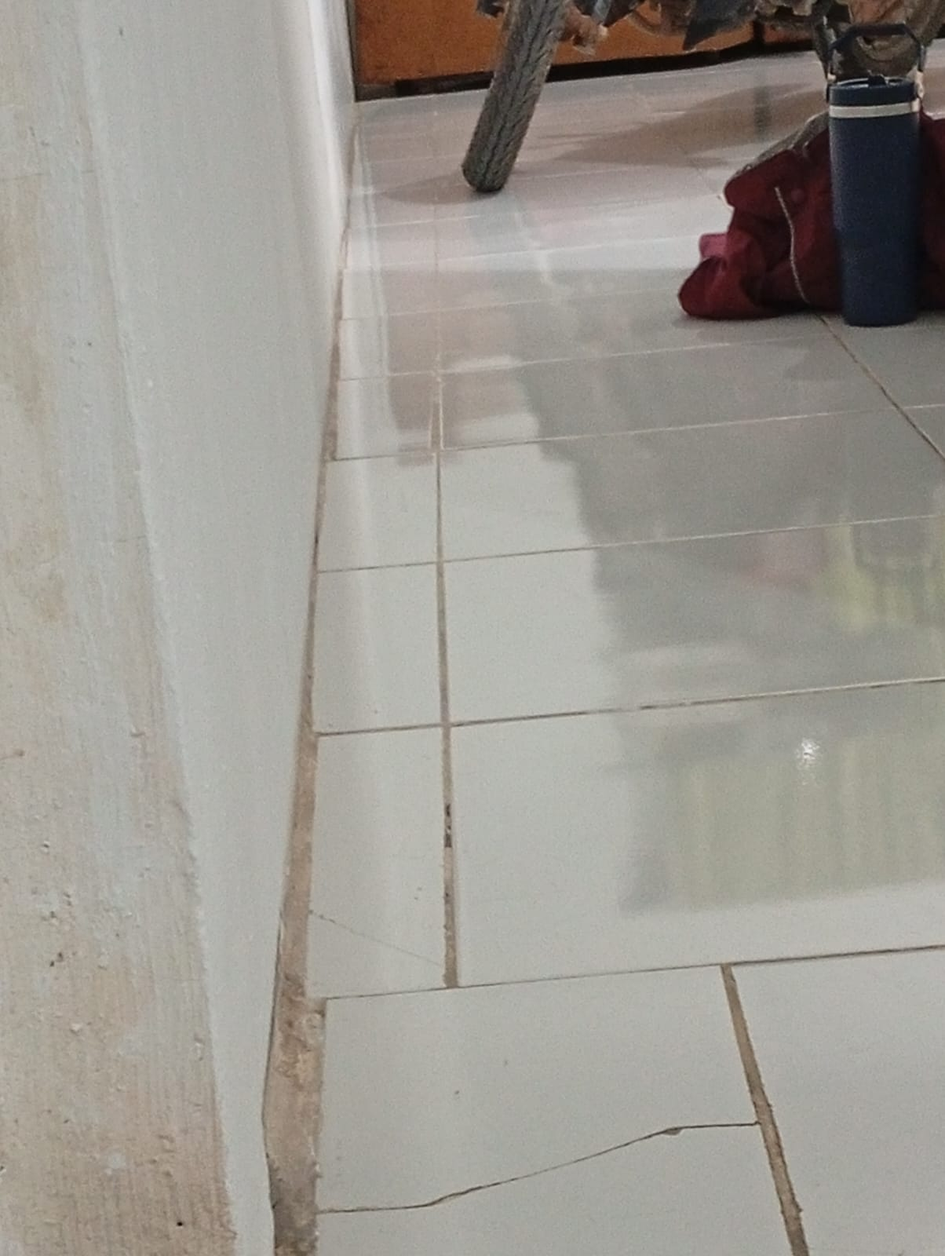Tupperware: (800, 18, 945, 356)
